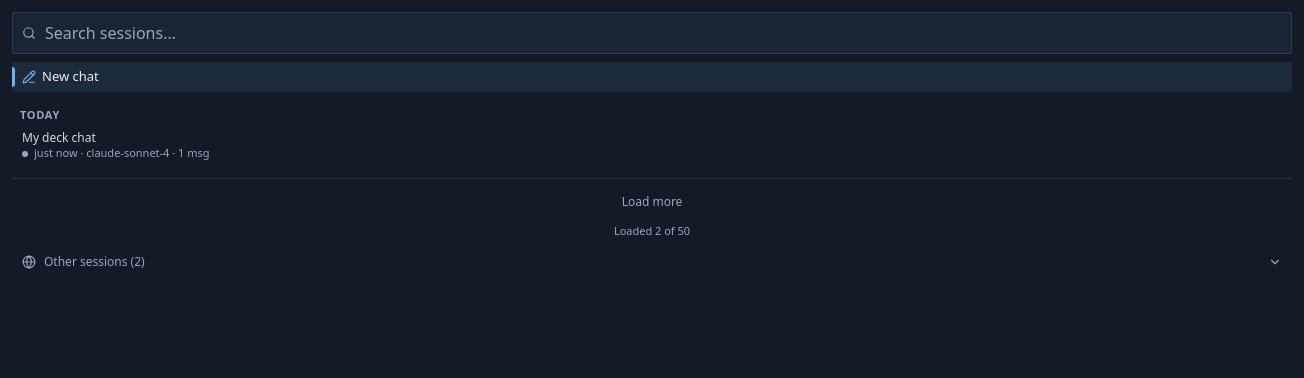
it: SessionList dense rail surfaces the deck's own (dashboard) sessions even when older than the recent page › reveals the folded recent external sessions when the toggle is expanded
This screenshot has width=1304, height=378.
Expected: the text "My deck chat" is shown, [22,129,96,146]
What coordinates should you click on to do the following:
click the button "Other sessions (2)"
I would click on:
 (89, 262)
Its box is [12,247,1292,277].
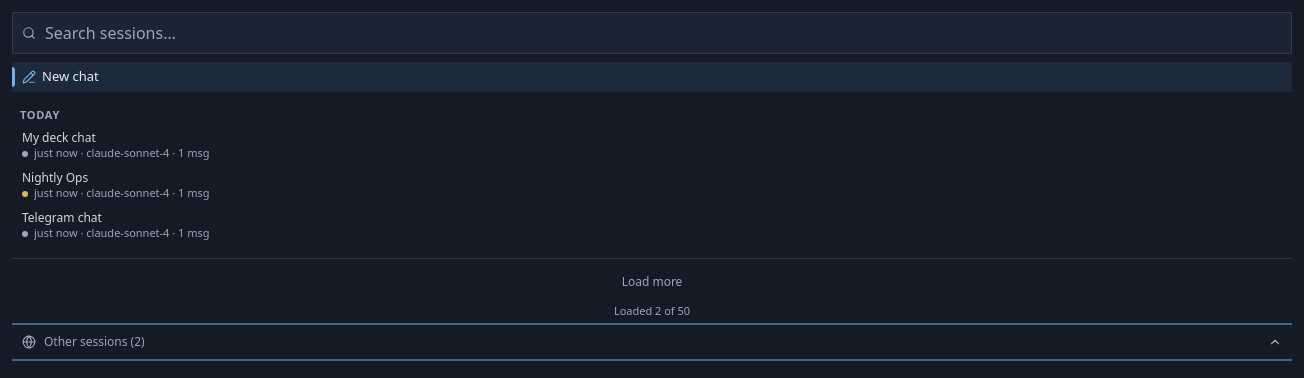
Expected: the text "Nightly Ops" is shown, [22,169,88,186]
